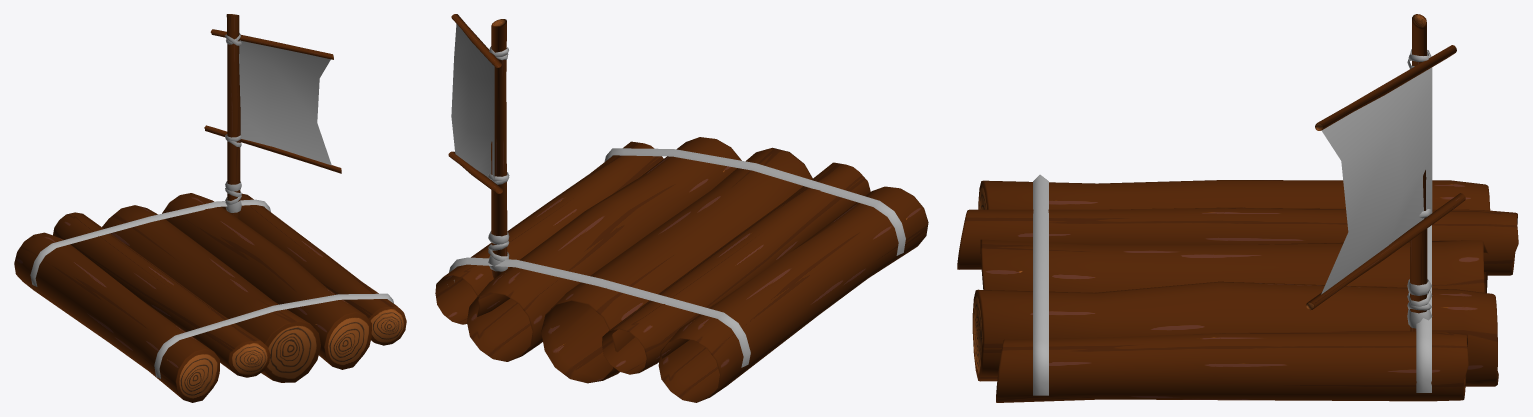
Rendered from beaverRaft.fbx.
The picture shows the model from 3 angles, left to right: view 1: azimuth 30°, elevation 25°; view 2: azimuth 150°, elevation 25°; view 3: azimuth 270°, elevation 25°; orthographic projection. The views are drawn at different scales.
Visible parts, largest first — view 1: polySurface8; view 2: polySurface8; view 3: polySurface8.
Boxes of the visible parts, bbox=[...] form: polySurface8: bbox=[14, 14, 406, 402]; polySurface8: bbox=[435, 14, 928, 402]; polySurface8: bbox=[957, 14, 1518, 402].
Size of the model in its own units: 21.53 by 18.98 by 24.5.
